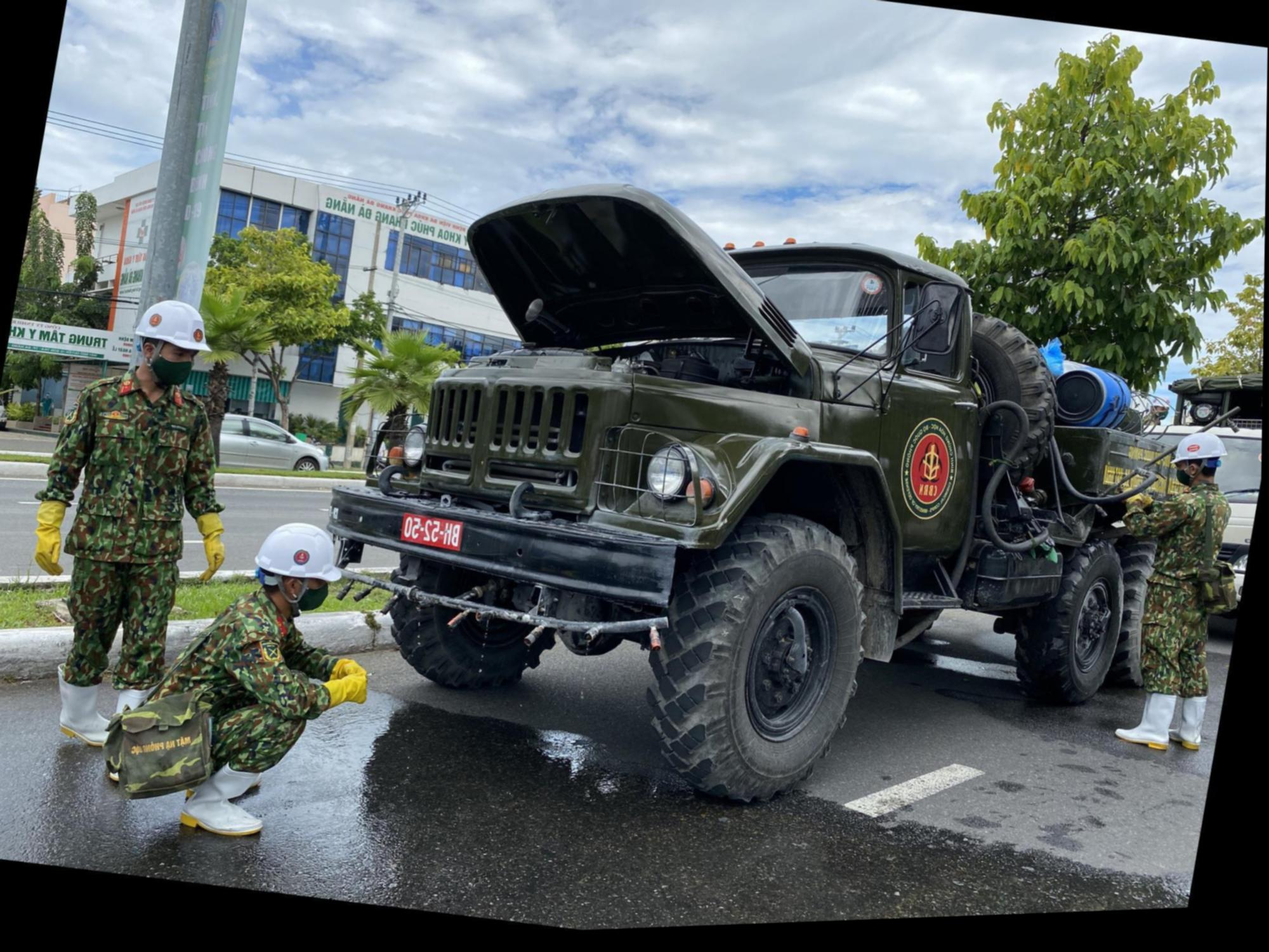License_Plate: (391, 502, 478, 558)
